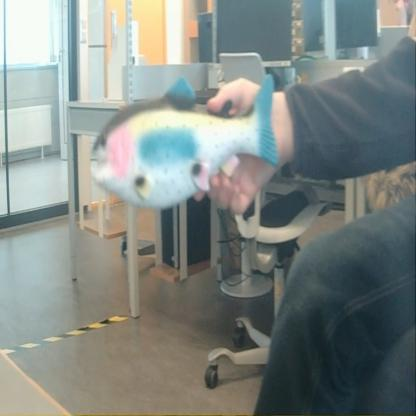rubberfish: (87, 70, 283, 214)
